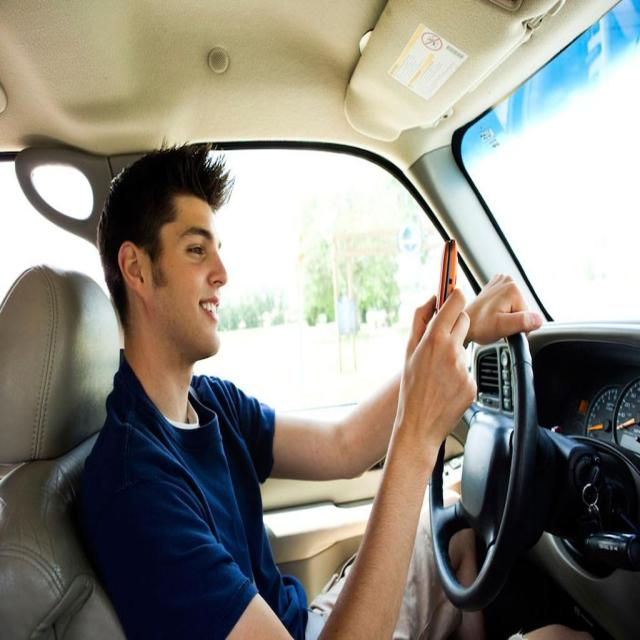Face: (157, 183, 243, 385)
